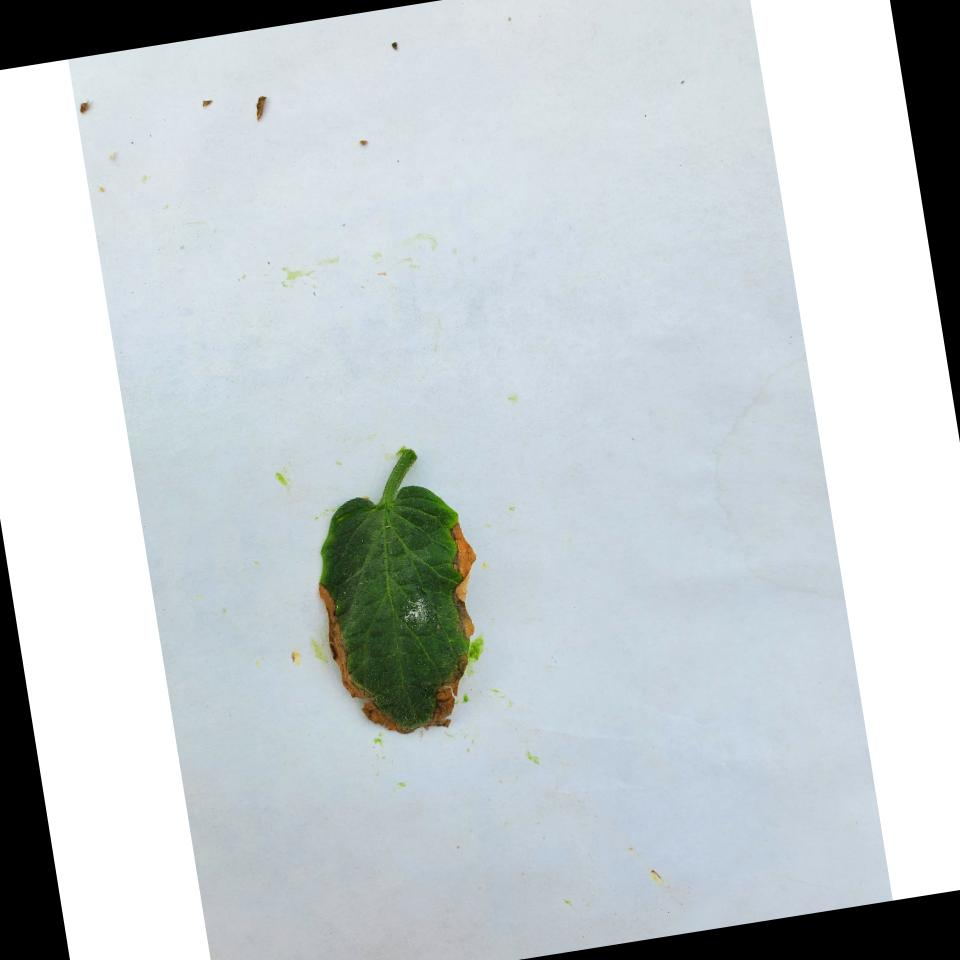tomato_bacterial_blight: (290, 472, 505, 763)
